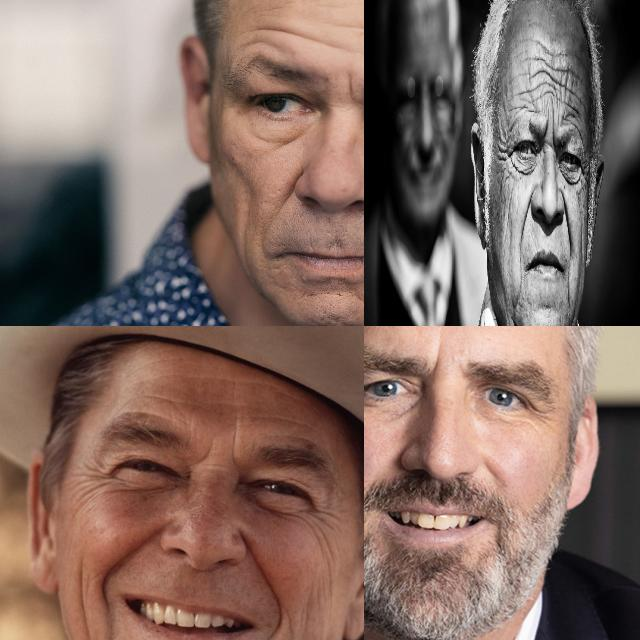crows_feet: (308, 492, 340, 542), (78, 456, 112, 494), (530, 401, 554, 429), (500, 137, 511, 165), (581, 159, 588, 191)
forehead: (250, 18, 328, 58), (140, 390, 196, 416), (264, 409, 316, 428), (549, 48, 562, 91), (530, 51, 546, 83), (563, 100, 578, 130), (566, 64, 578, 99), (517, 84, 534, 103)
frown_line: (224, 424, 244, 470), (192, 434, 216, 468), (428, 342, 448, 382), (550, 117, 556, 148), (544, 109, 550, 138)
gummy_smile: (241, 532, 295, 604), (104, 532, 162, 582), (279, 164, 305, 213), (482, 459, 506, 488), (520, 190, 530, 242), (564, 196, 572, 248)
masseter: (65, 565, 98, 623), (238, 210, 255, 272)
sad_smile: (516, 254, 524, 290), (566, 273, 572, 308)
